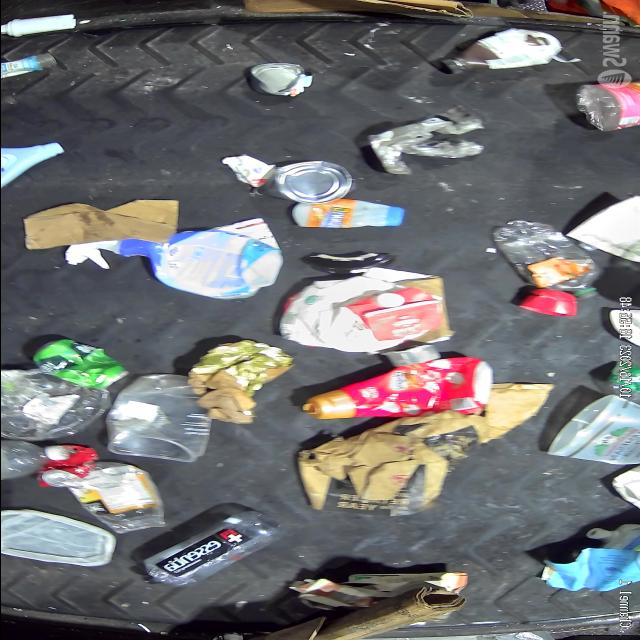can: (30, 338, 126, 386), (251, 160, 352, 204), (36, 444, 96, 487), (245, 62, 313, 96)
milk_jug: (277, 276, 443, 352)
non_white_jug: (300, 356, 492, 421)
plastic_bottle: (140, 512, 286, 586), (492, 219, 600, 299), (0, 440, 69, 480)
